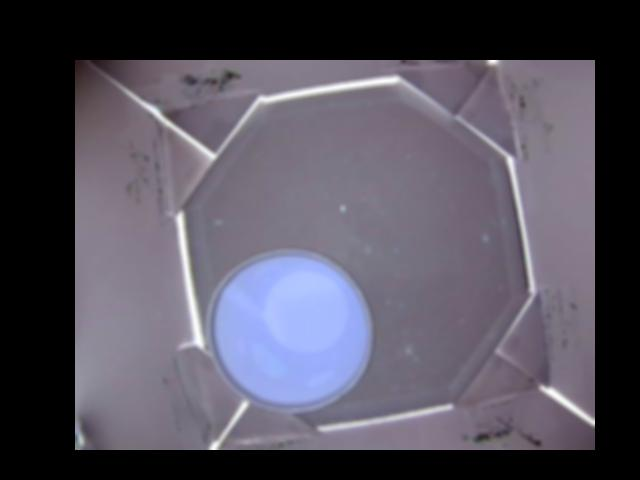Cup: (205, 249, 374, 410)
